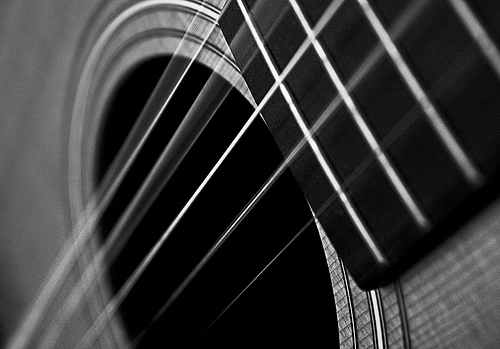guitar: (1, 1, 500, 349)
